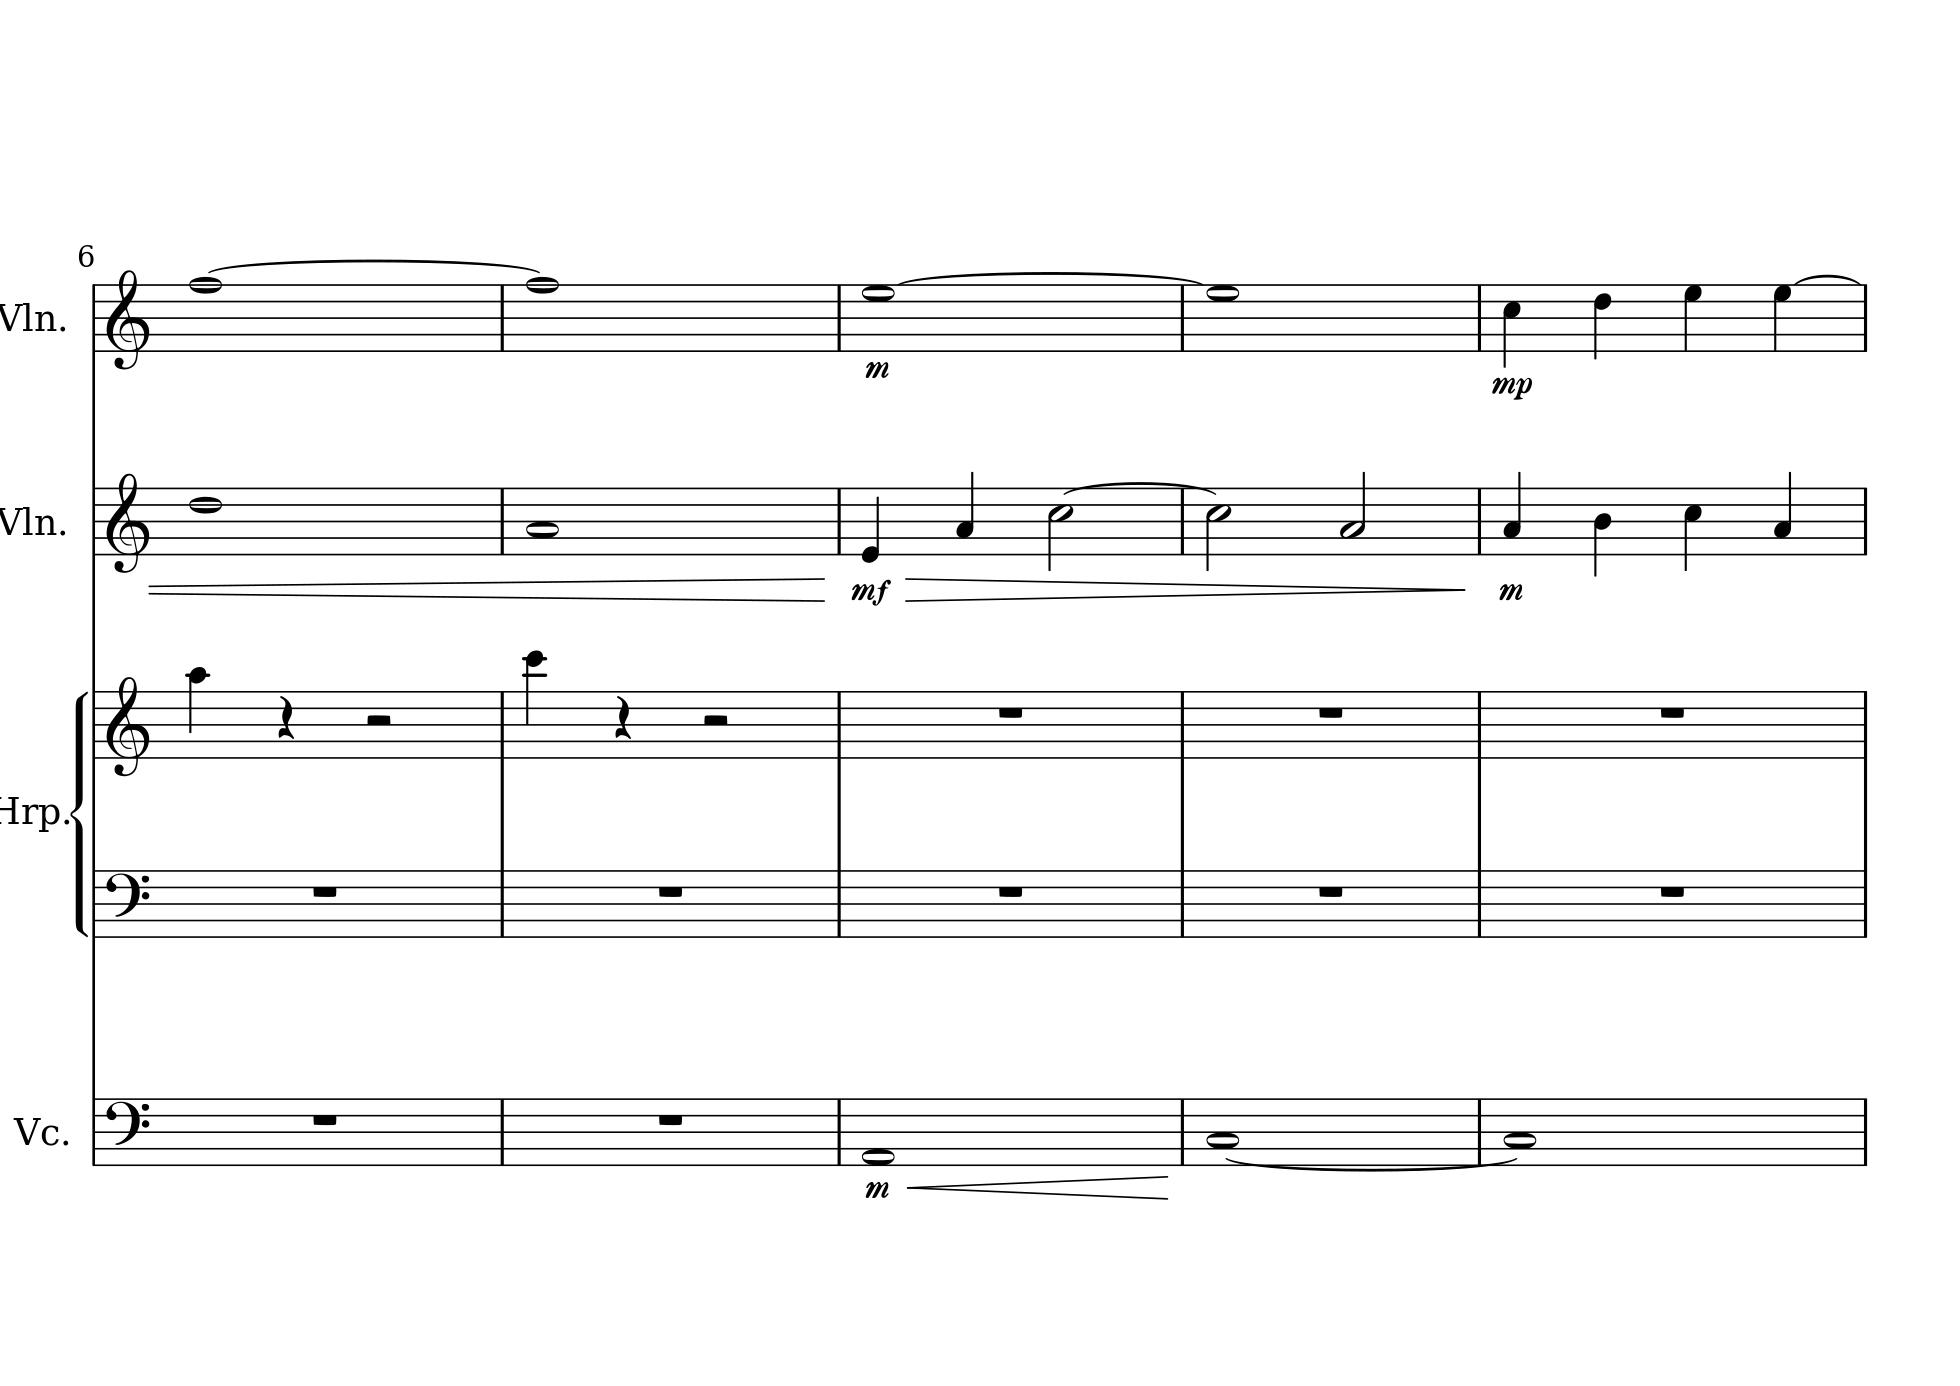1_1: (861, 1095, 895, 1168)
1_3: (525, 484, 559, 556), (1503, 1095, 1537, 1167), (1206, 1093, 1239, 1167)
1_6: (187, 484, 223, 558)
1_7: (1204, 282, 1240, 354), (861, 282, 895, 352)
1_8: (187, 274, 223, 355), (523, 274, 559, 355)
2_3: (1338, 469, 1368, 556)
2_5: (1047, 484, 1075, 571), (1204, 486, 1233, 573)
4_0: (859, 484, 883, 564)
4_10: (184, 664, 210, 760)
4_12: (523, 648, 547, 760)
4_3: (954, 469, 976, 556), (1501, 469, 1524, 556), (1773, 469, 1795, 556)
4_4: (1593, 486, 1614, 577)
4_5: (1683, 484, 1704, 574), (1501, 280, 1522, 367)
4_6: (1593, 282, 1614, 361)
4_7: (1771, 283, 1794, 354), (1683, 283, 1704, 352)
6: (76, 241, 96, 268)
Brace: (69, 685, 88, 936)
Crescendo_hairpin: (907, 1174, 1170, 1198)
Diminuendo_hairpin: (904, 576, 1467, 601)
Fclef: (103, 1096, 151, 1165), (103, 868, 151, 925)
Gclef: (103, 469, 151, 574), (105, 673, 153, 778), (105, 267, 150, 370)
Hrp: (1, 790, 60, 832)
Rests1: (307, 880, 340, 900), (654, 880, 687, 900), (309, 1110, 340, 1129), (994, 882, 1027, 900), (1314, 882, 1347, 900), (1656, 882, 1689, 900), (654, 1110, 687, 1128), (996, 703, 1027, 721), (1315, 703, 1347, 721), (1657, 703, 1689, 721)
Rests2: (697, 711, 732, 730), (361, 711, 394, 730)
Rests4: (610, 693, 634, 744), (274, 693, 298, 742)
Single_barline: (1855, 282, 1876, 349), (1173, 490, 1192, 555), (829, 283, 847, 351), (1470, 283, 1488, 351), (829, 690, 847, 757), (493, 487, 511, 553), (1173, 691, 1191, 757), (1173, 1098, 1191, 1164), (1173, 286, 1191, 349), (831, 870, 847, 937), (1174, 870, 1191, 937), (1471, 870, 1488, 937), (1471, 1096, 1488, 1164), (831, 1098, 847, 1165), (493, 285, 510, 351), (1857, 487, 1873, 553), (1471, 487, 1488, 553), (1471, 691, 1488, 757), (493, 871, 510, 937), (1857, 1098, 1873, 1164), (493, 1099, 510, 1165), (493, 691, 510, 756), (87, 283, 102, 351), (87, 487, 102, 555), (832, 487, 847, 555), (1857, 690, 1872, 757), (1857, 870, 1872, 937), (87, 691, 102, 757), (88, 870, 102, 937), (87, 1098, 100, 1165)
Slur: (207, 259, 546, 274), (898, 271, 1194, 286), (1228, 1156, 1516, 1171), (1065, 481, 1218, 496), (1791, 271, 1863, 285)
Vc: (9, 1111, 63, 1147)
Vln: (1, 498, 57, 544), (1, 295, 57, 340)
m: (1497, 579, 1527, 604), (862, 1179, 891, 1200)
mf: (849, 574, 894, 609)
mp: (1488, 373, 1536, 403), (862, 358, 891, 381)
